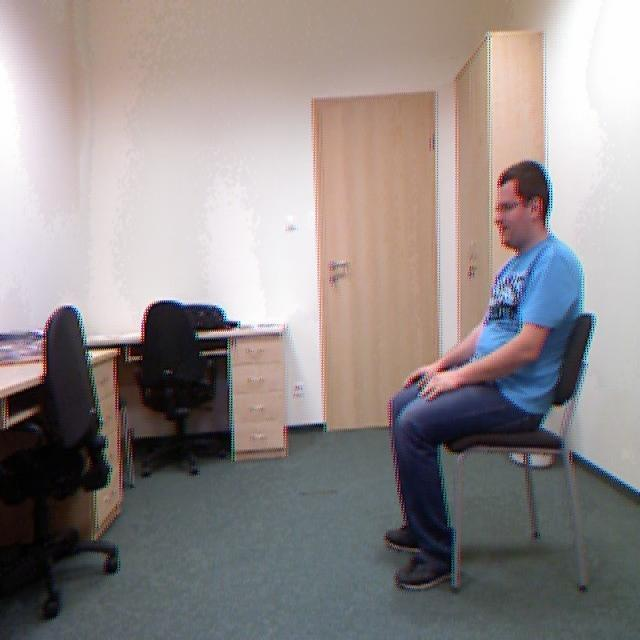sitting: (379, 161, 593, 639)
